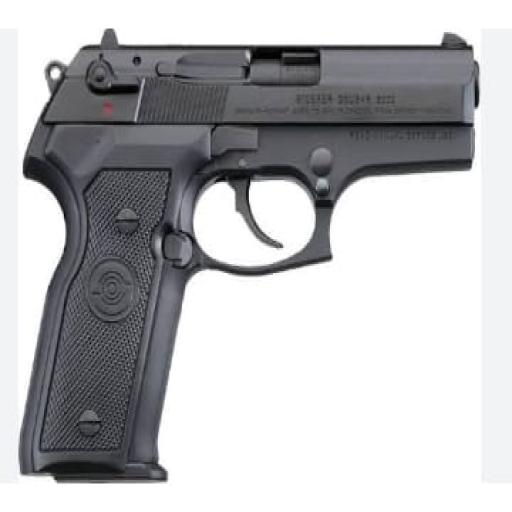Gun: (20, 30, 476, 478)
